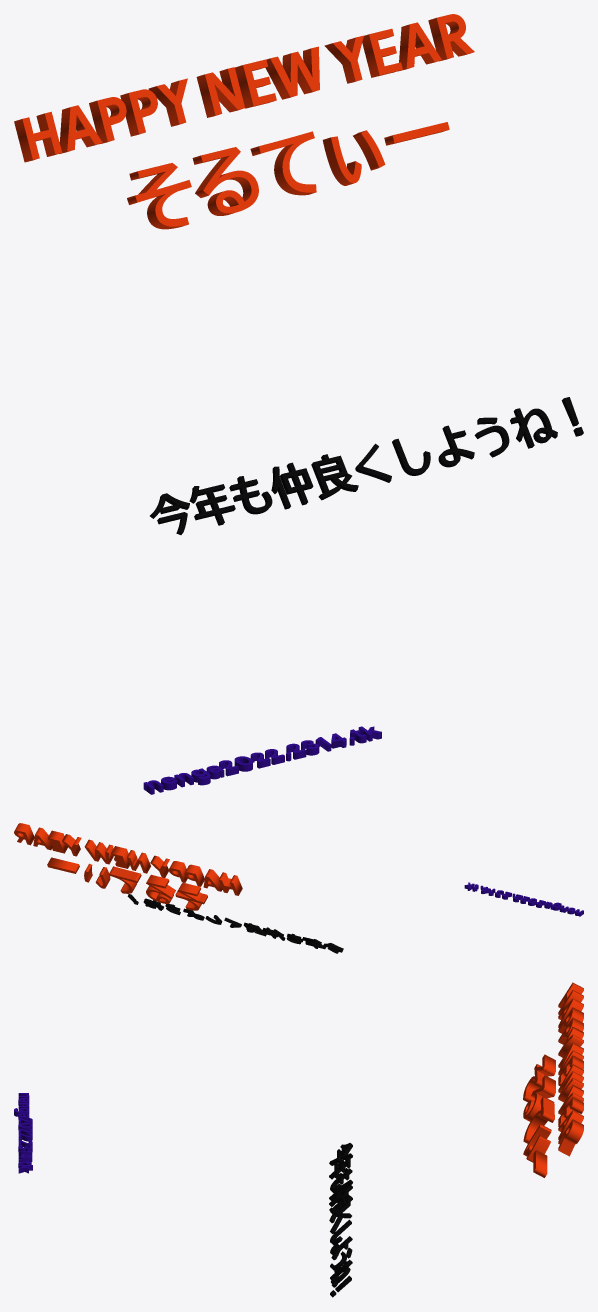
The model's file is moji.glb.
3 views of the same model, one above another, from view 1: azimuth 30°, elevation 25°; view 2: azimuth 150°, elevation 25°; view 3: azimuth 270°, elevation 25° (orthographic). The views are drawn at different scales.
Visible parts, largest first — view 1: hny, message, name, logo; view 2: hny, name, message, logo; view 3: hny, name, message, logo.
Part boxes in pixels (<box>): hny: <box>14,14,474,162</box>; message: <box>150,397,583,534</box>; name: <box>127,122,449,229</box>; logo: <box>143,726,381,794</box>; hny: <box>14,823,242,895</box>; name: <box>47,857,207,910</box>; message: <box>127,894,343,953</box>; logo: <box>464,882,583,916</box>; hny: <box>558,982,583,1156</box>; name: <box>523,1054,555,1177</box>; message: <box>329,1143,352,1297</box>; logo: <box>14,1093,32,1173</box>.
Bounding box in the file's own units: 45.06 × 18.31 × 45.52.
